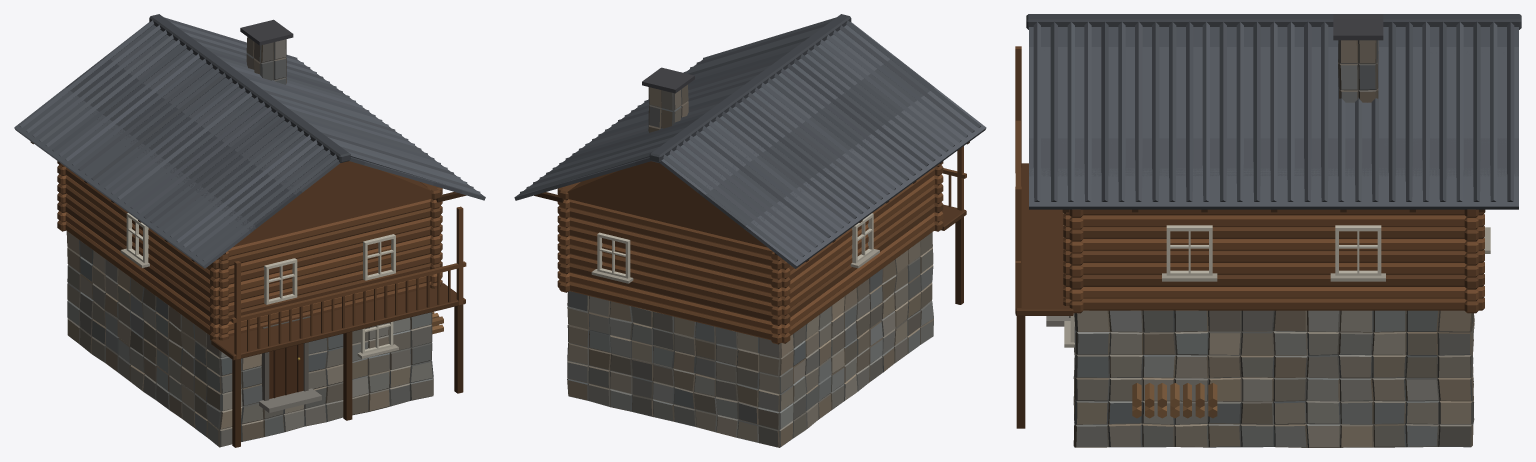
Rendered from house_yayla_2.glb.
3 views of the same model, side by side, from view 1: azimuth 30°, elevation 25°; view 2: azimuth 150°, elevation 25°; view 3: azimuth 270°, elevation 25° (orthographic). The views are drawn at different scales.
Visible parts, largest first — view 1: box; view 2: box; view 3: box.
Part boxes in pixels (x1,y1,x2,y2): box: (14, 14, 485, 447); box: (514, 14, 986, 447); box: (1015, 14, 1521, 447).
Size of the model in its own units: 8 by 8.1 by 9.61.
